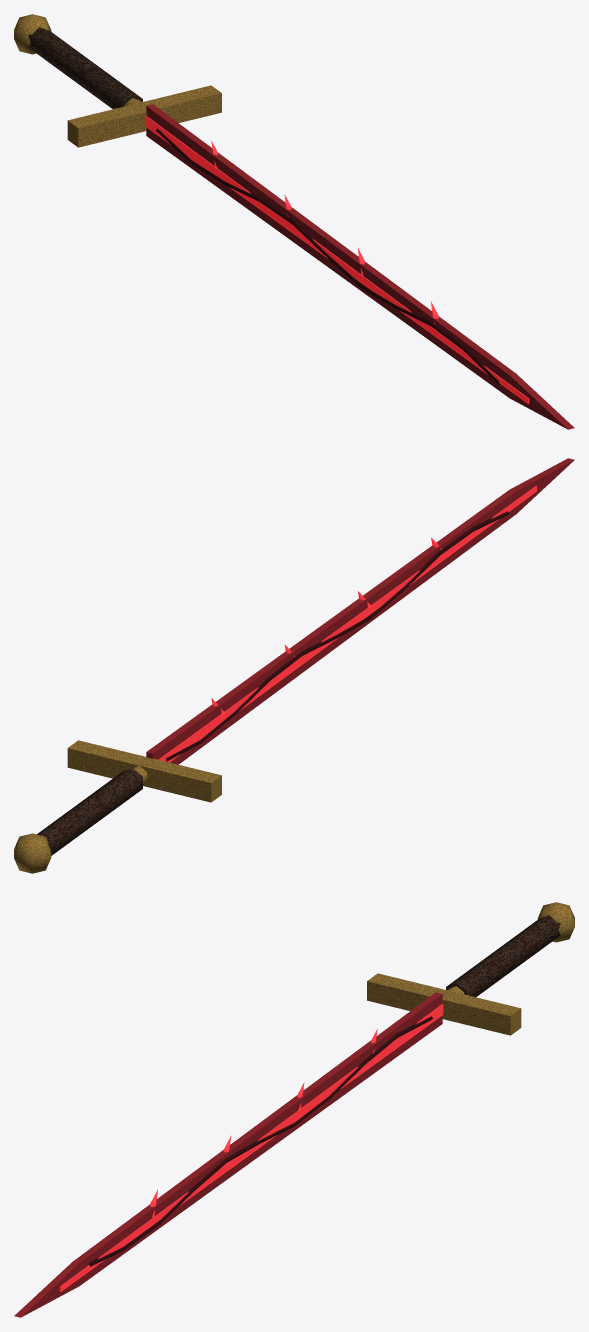
Rendered from espada_sangue.glb.
3 renders of one model, top to bottom at view 1: azimuth 30°, elevation 25°; view 2: azimuth 150°, elevation 25°; view 3: azimuth 330°, elevation 25°, orthographic.
Parts seen in each view (by area): view 1: espada_sangue_veias; view 2: espada_sangue_veias; view 3: espada_sangue_veias.
Part boxes in pixels (bbox=[...]): espada_sangue_veias: bbox=[14, 14, 574, 429]; espada_sangue_veias: bbox=[14, 458, 574, 873]; espada_sangue_veias: bbox=[14, 902, 574, 1317].
Bounding box in the file's own units: 0.17 × 0.0504 × 1.12.
Materials: 5 (2 with a texture image).
